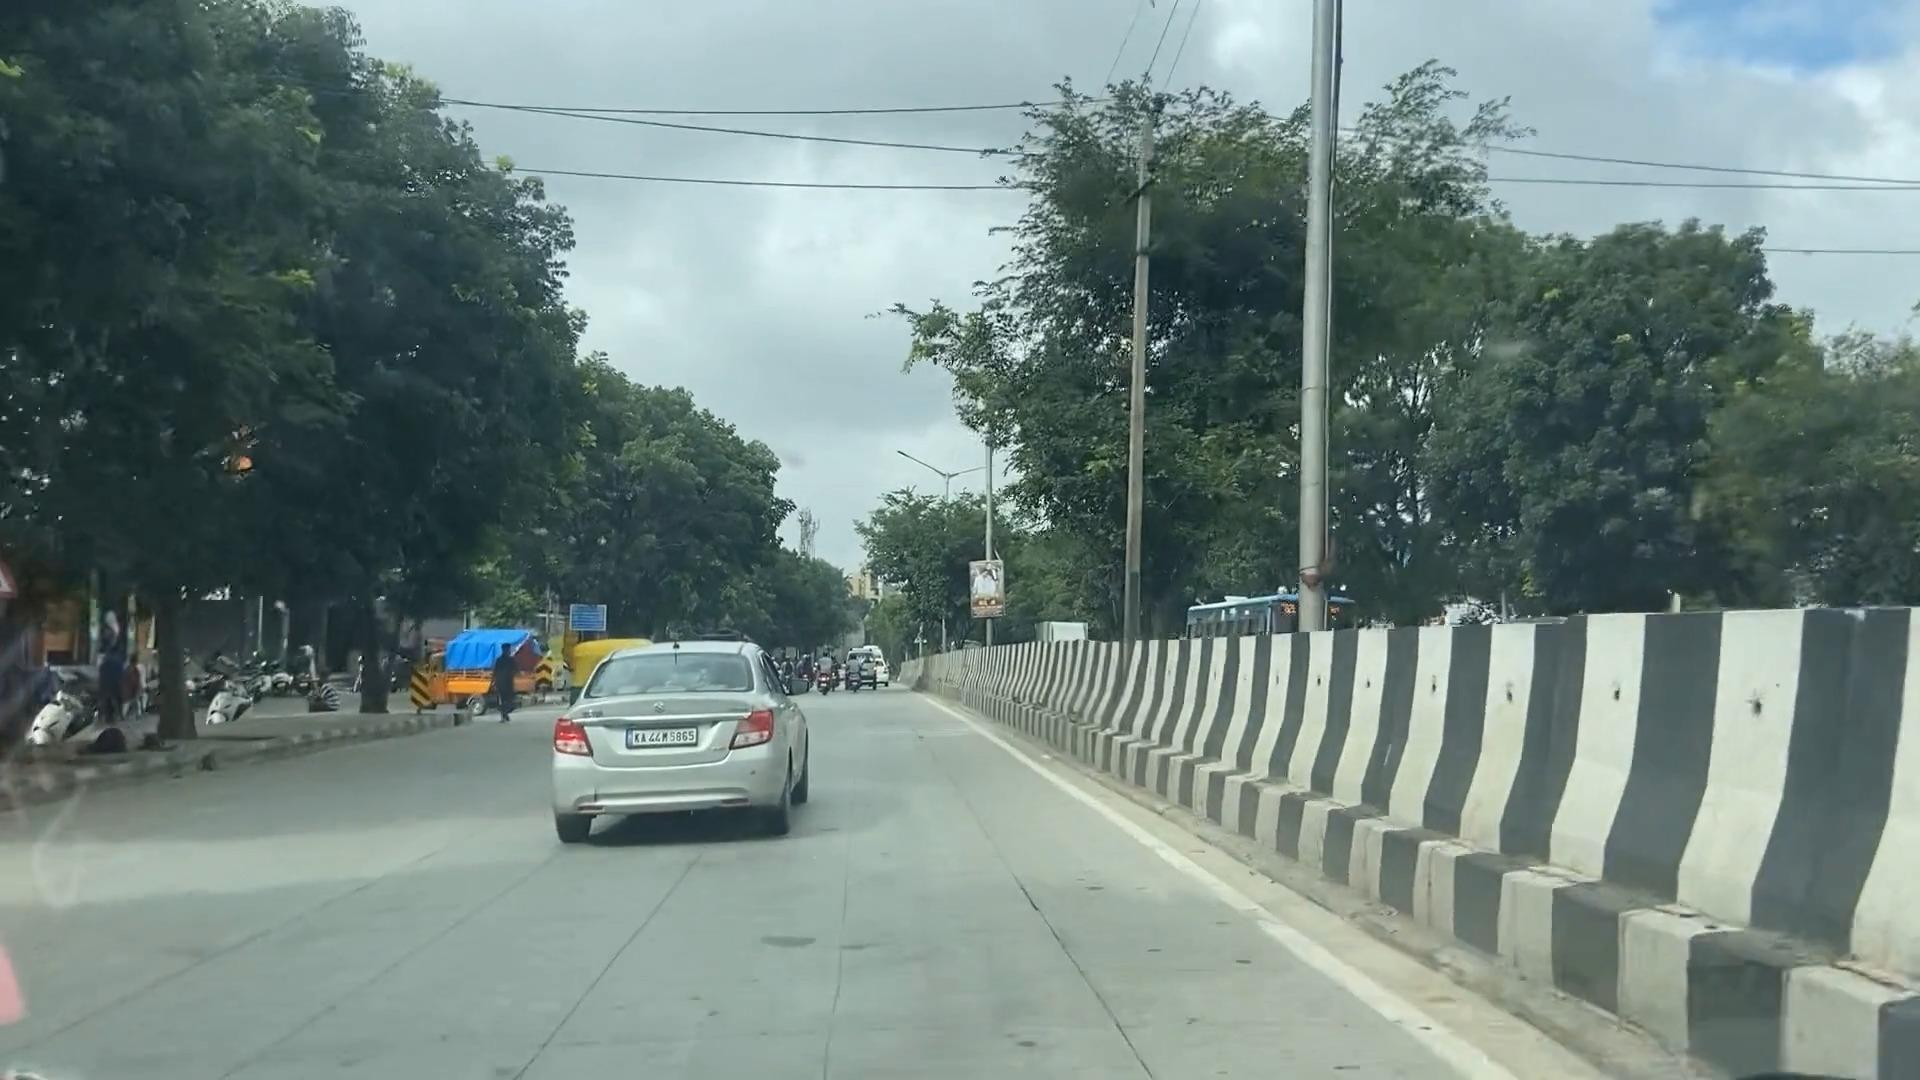LMV: (543, 638, 810, 828)
